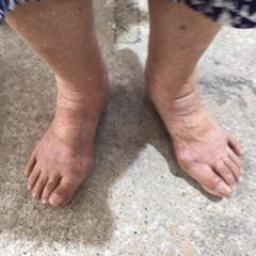Dorsal View -Both Feet-: (19, 49, 248, 224)
